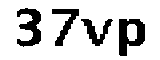3: (10, 6, 43, 52)
7: (49, 2, 79, 51)
p: (115, 16, 150, 56)
v: (79, 16, 112, 48)
